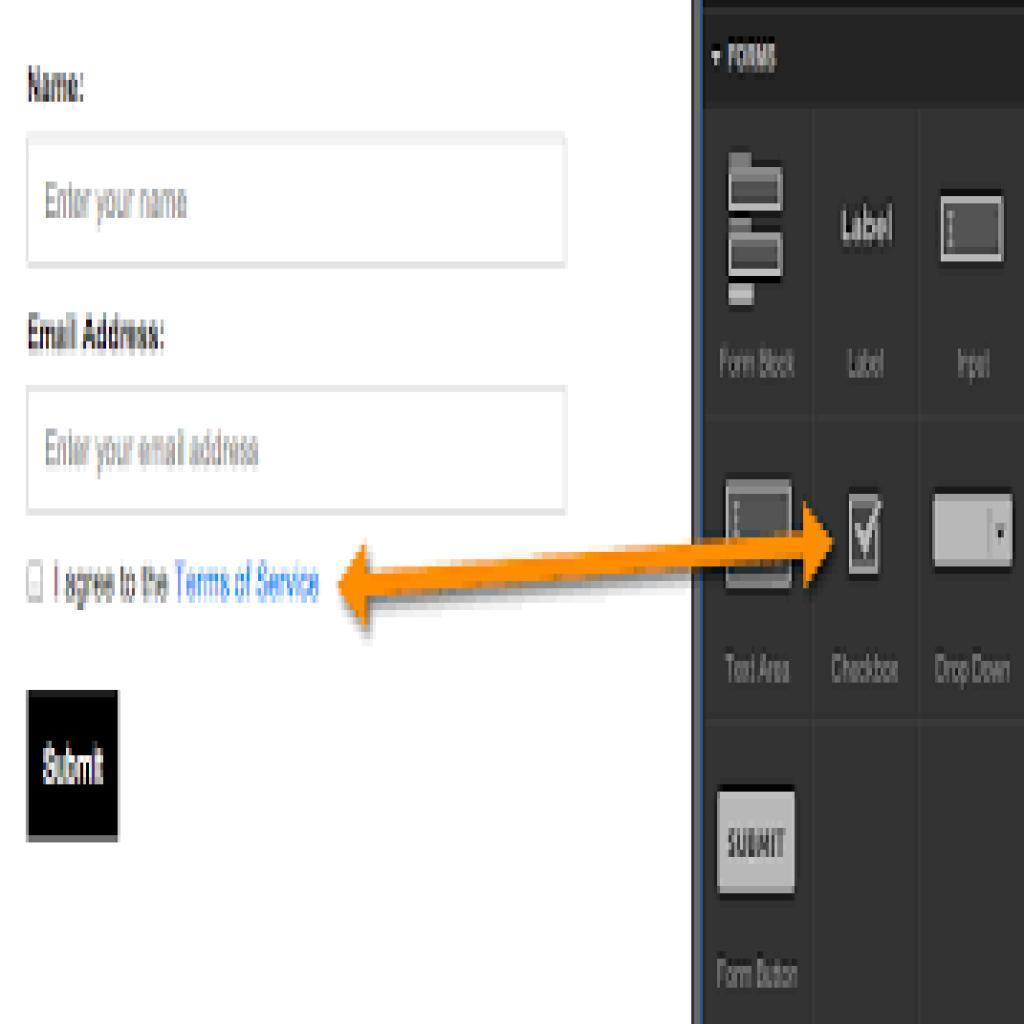button: (25, 690, 121, 845), (720, 791, 797, 894)
checkbox: (850, 494, 883, 576), (26, 561, 47, 604)
dropdown: (932, 494, 1014, 569)
input: (28, 137, 569, 268), (25, 387, 568, 514), (942, 198, 1004, 260)
label: (51, 558, 323, 611), (25, 307, 171, 363), (710, 950, 808, 999), (930, 642, 1019, 694), (714, 344, 804, 388), (24, 58, 89, 114), (827, 645, 905, 691), (837, 201, 900, 253), (721, 645, 794, 689), (844, 348, 891, 385), (955, 347, 994, 387)
